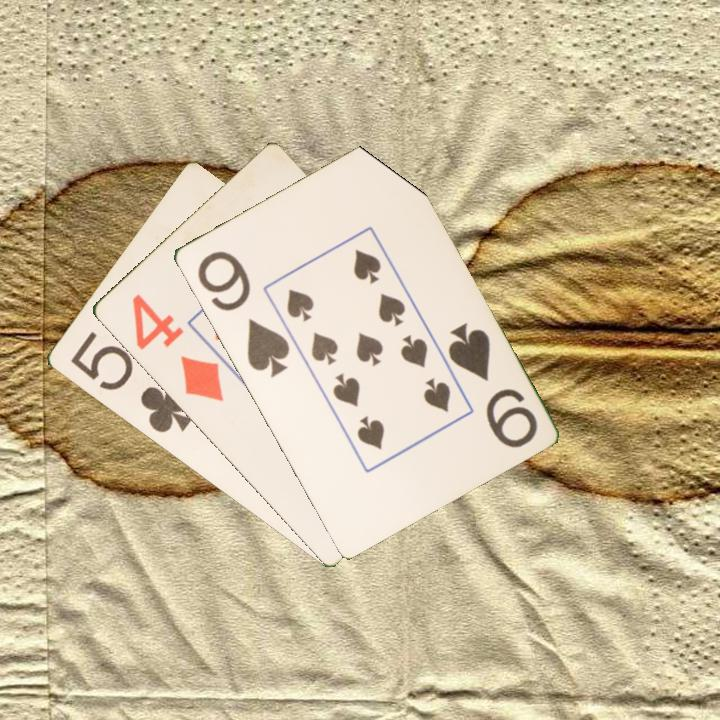4d: (128, 290, 226, 405)
5c: (66, 328, 196, 436)
9s: (193, 247, 292, 381), (443, 318, 541, 451)
